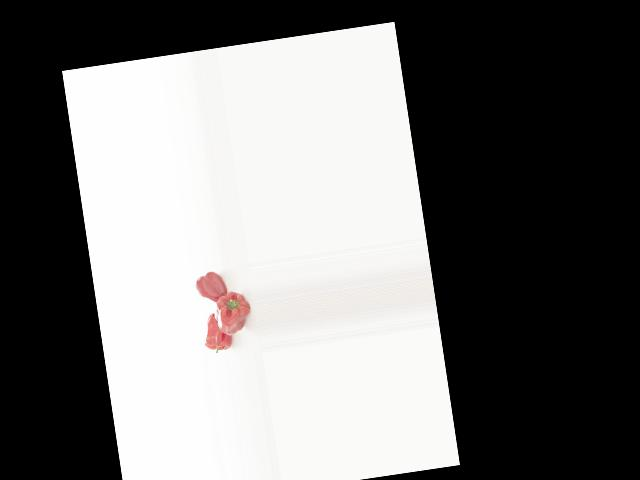bell_pepper: (193, 267, 229, 302)
